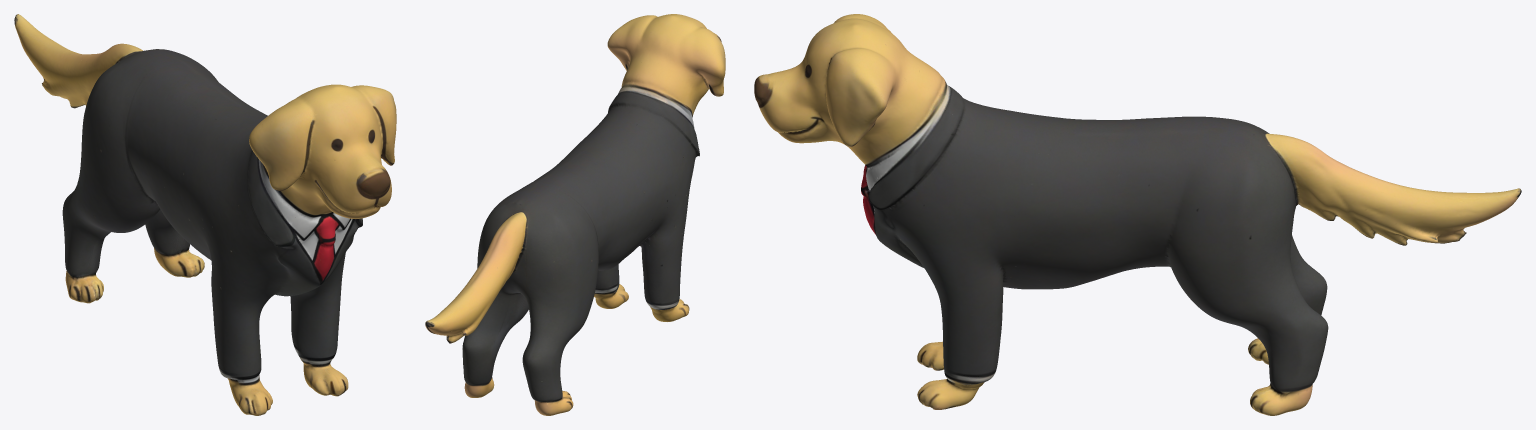
The model's file is pet_dog_suit_stand.glb.
The picture shows the model from 3 angles, left to right: view 1: azimuth 30°, elevation 25°; view 2: azimuth 150°, elevation 25°; view 3: azimuth 270°, elevation 25°; orthographic projection. The views are drawn at different scales.
Bounding box in the file's own units: 0.4589 × 1.04 × 2.
1 material, 1 textured.
